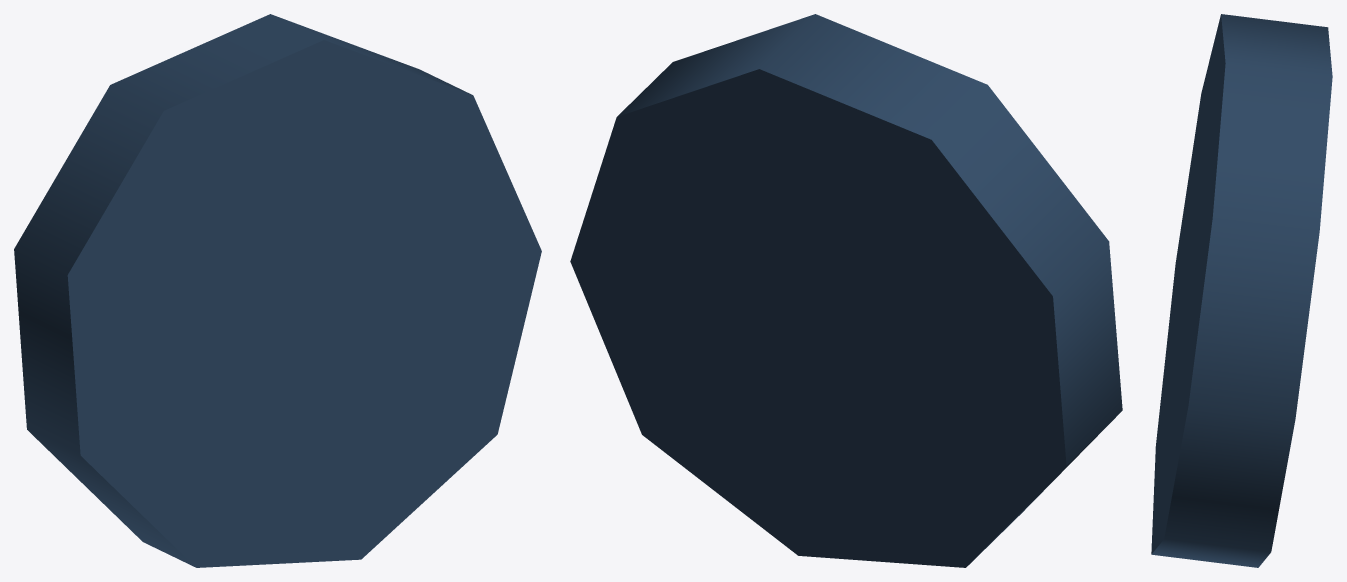
Rendered from dog_collar_verA.FBX.
3 renders of one model, left to right at view 1: azimuth 30°, elevation 25°; view 2: azimuth 150°, elevation 25°; view 3: azimuth 270°, elevation 25°, orthographic. The views are drawn at different scales.
Visible parts, largest first — view 1: Collar; view 2: Collar; view 3: Collar.
Boxes of the visible parts, x1,y1,x2,y2 form: Collar: (14, 14, 541, 567); Collar: (570, 14, 1122, 567); Collar: (1151, 14, 1332, 567).
Bounding box in the file's own units: 47.36 × 48.93 × 15.93.
